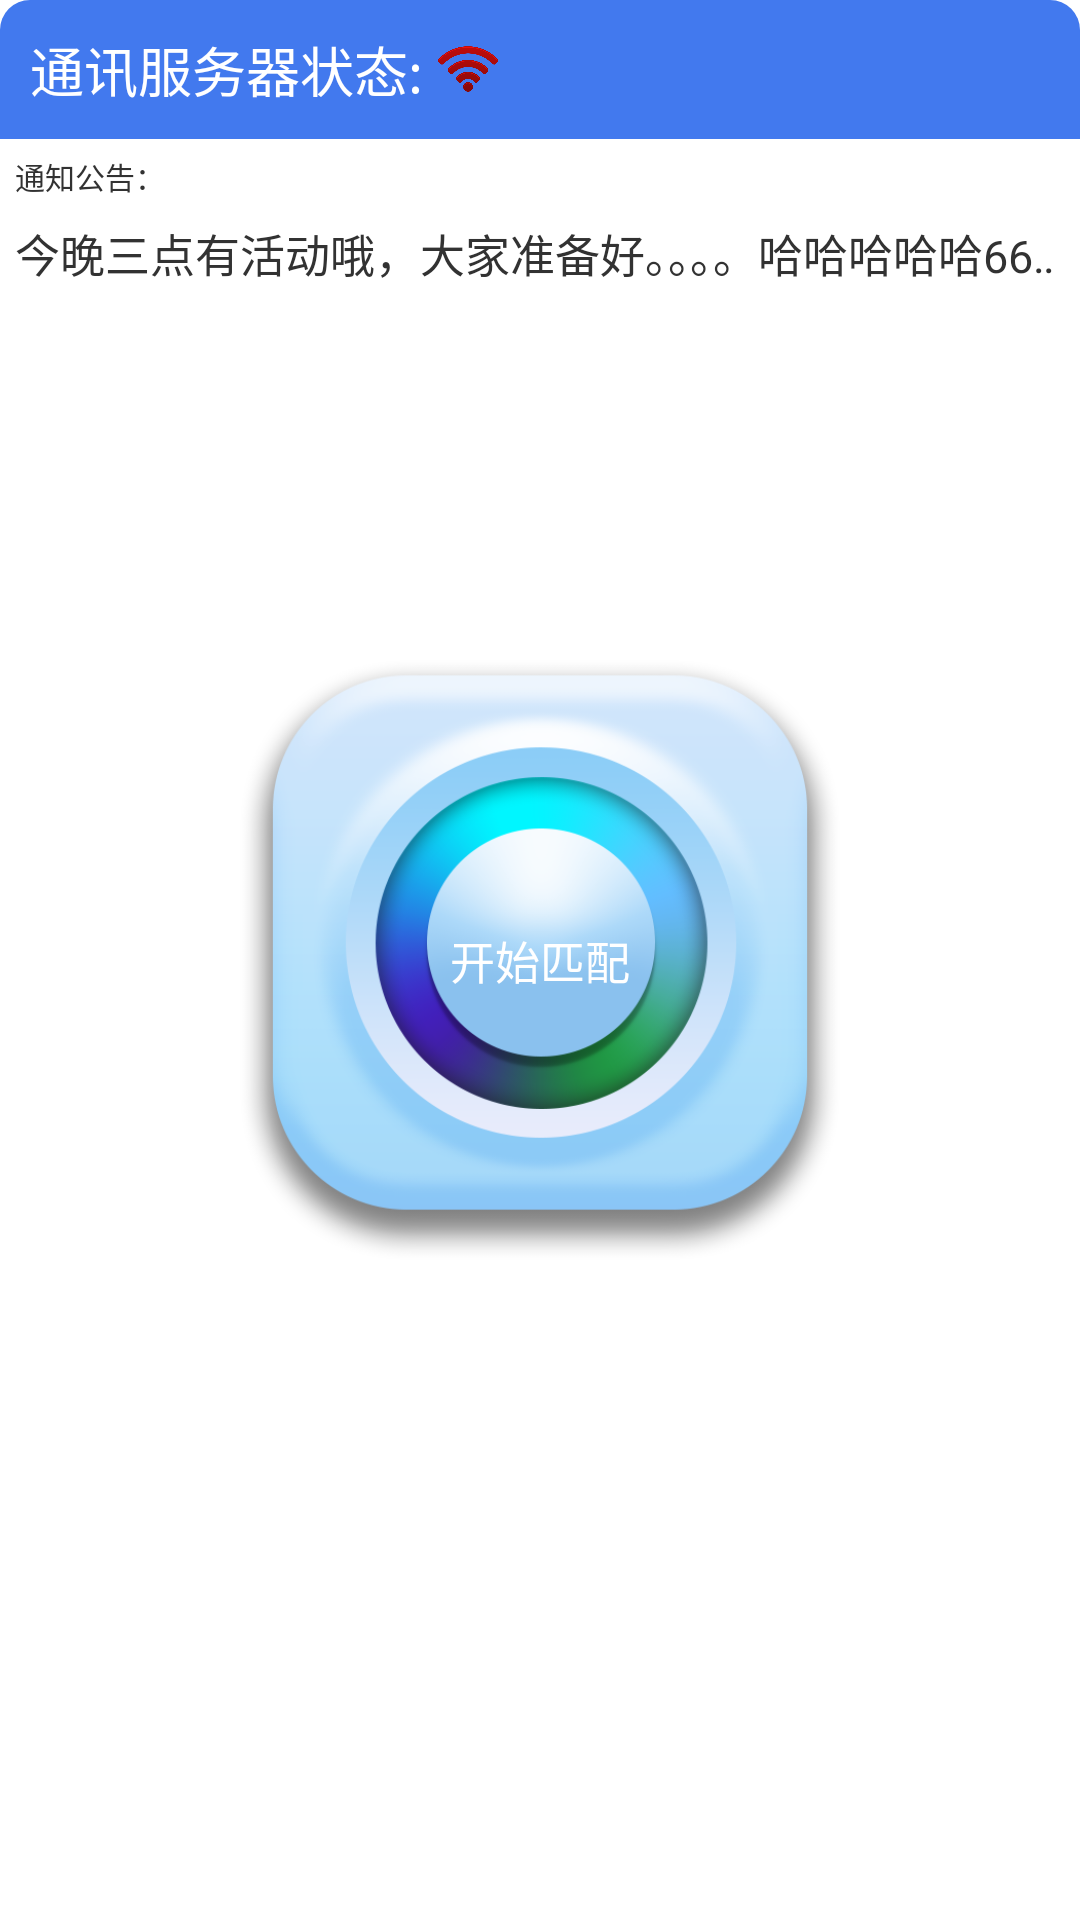

Locate icon controls on the screen. Image size 1080px x 1920px, boxes as (x1, y1, x2, y2).
wifi disconnect: (438, 46, 498, 92)
